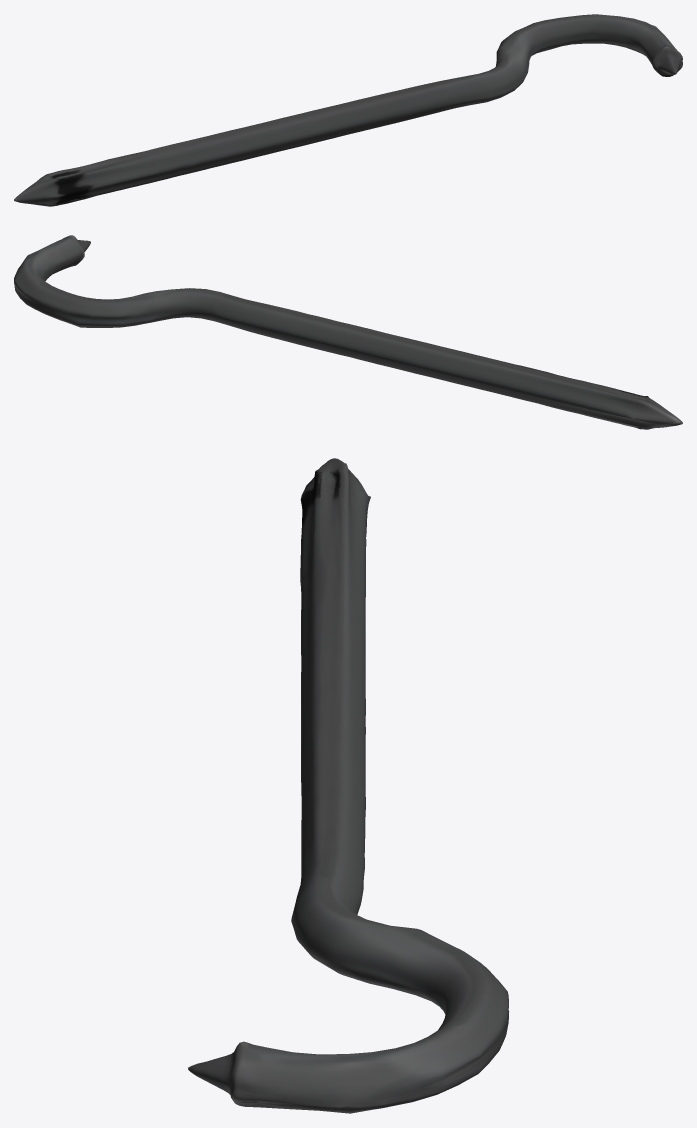
Rendered from LockPick,.glb.
3 views of the same model, one above another, from view 1: azimuth 30°, elevation 25°; view 2: azimuth 150°, elevation 25°; view 3: azimuth 270°, elevation 25° (orthographic). The views are drawn at different scales.
Size of the model in its own units: 1.9 by 0.0828 by 0.4062.
1 material, 1 textured.
